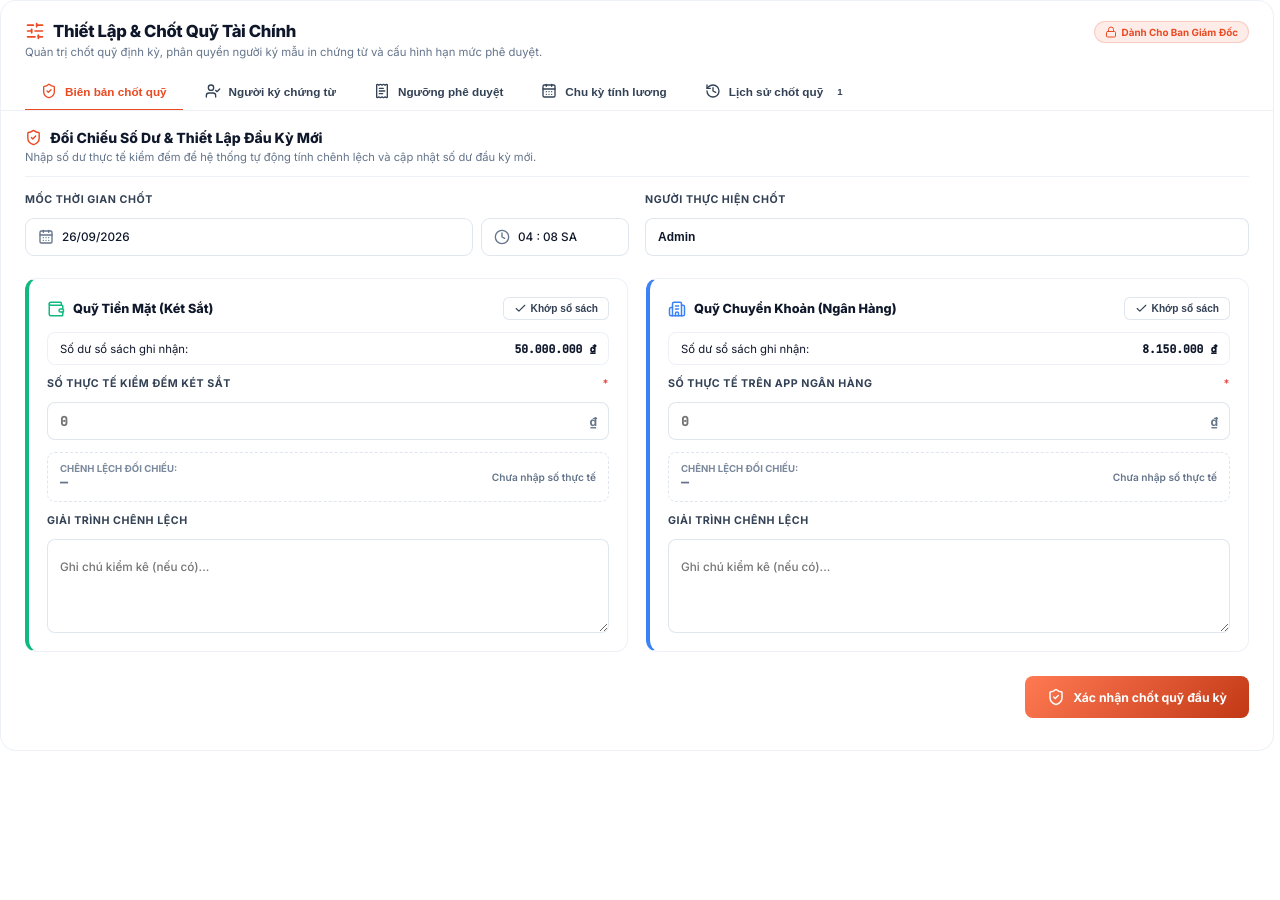
Test: SettingsScreen — Clean & Practical ERP Settings Hub › calculates real-time delta and enables fast match for cash and bank funds
Expected: the text "50.000.000 ₫" is shown, x1=514 y1=341 x2=596 y2=356
Note: Click Fast match on cash fund
Click the button "Khớp sổ sách" in the row of "Quỹ Tiền Mặt (Két Sắt)" at (556, 308), box x1=503 y1=297 x2=609 y2=320
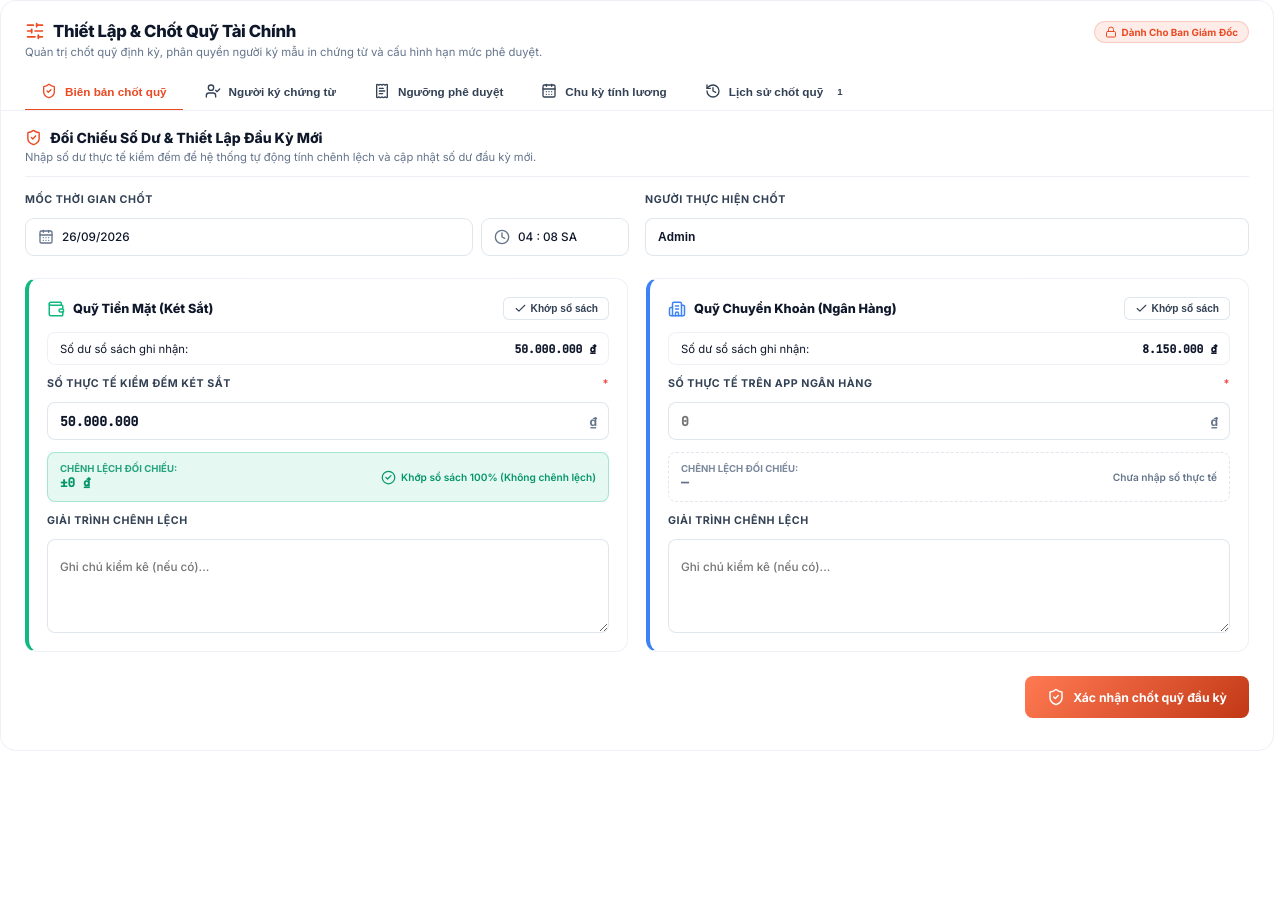
Expected: the field showing "50.000.000" below "Số thực tế kiểm đếm két sắt" is shown, x1=47 y1=402 x2=609 y2=440
Expected: the text "Khớp sổ sách 100% (Không chênh lệch)" is shown, x1=401 y1=471 x2=596 y2=483
